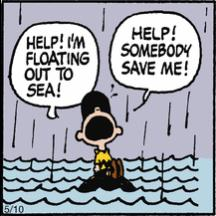charlie: (74, 90, 124, 180)
